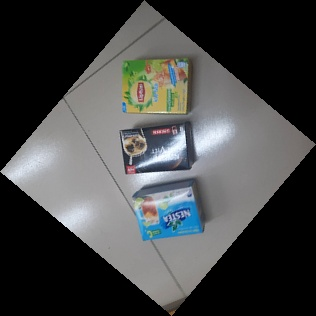CF Viet: (118, 121, 197, 175)
LipTon: (119, 56, 193, 117)
Nestea: (130, 178, 205, 241)
